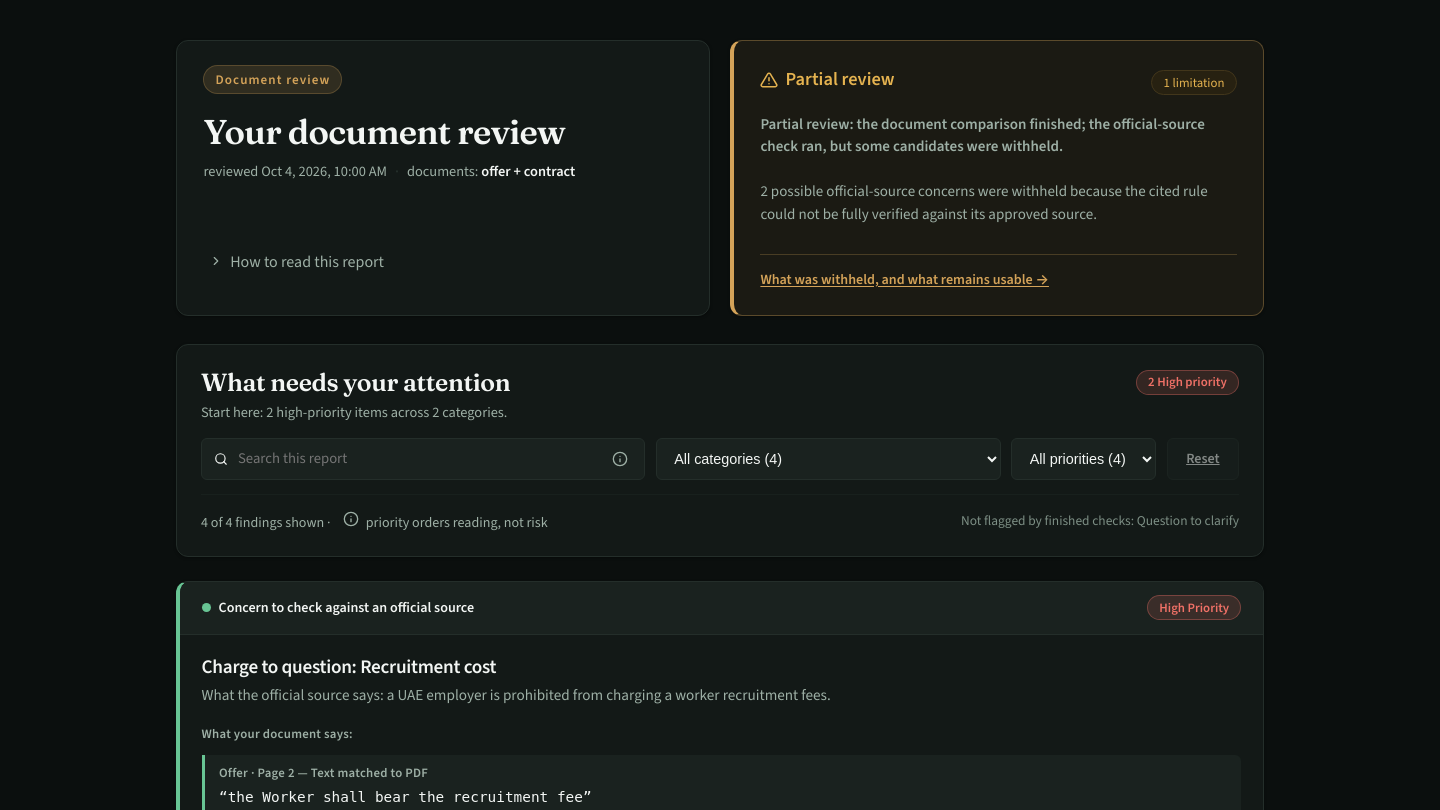
Test: search, filters, reset (plan §8.12) › search matches explanations and quotes; zero matches is a filtered view, never a clean result (R20)
The width and height of the screenshot is (1440, 810).
Type "probation" into the search field named "Search findings". click: {"x": 415, "y": 459}
box: [236,439,595,479]
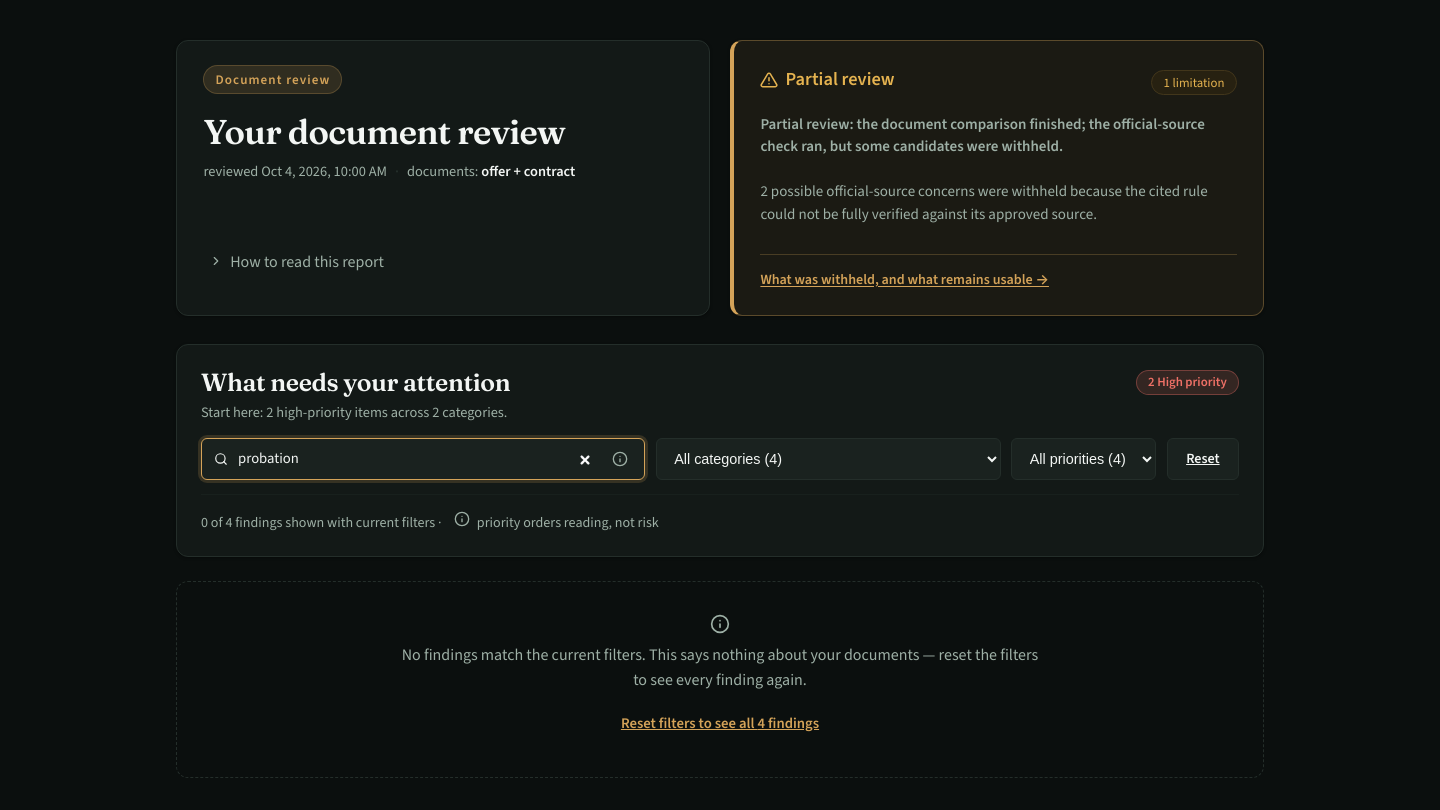
Expected: the text "No findings match the current filters" is shown, [402,644,1038,690]
Click the button "Reset filters to see all 4 findings". click: {"x": 720, "y": 723}
box: [618,701,822,745]
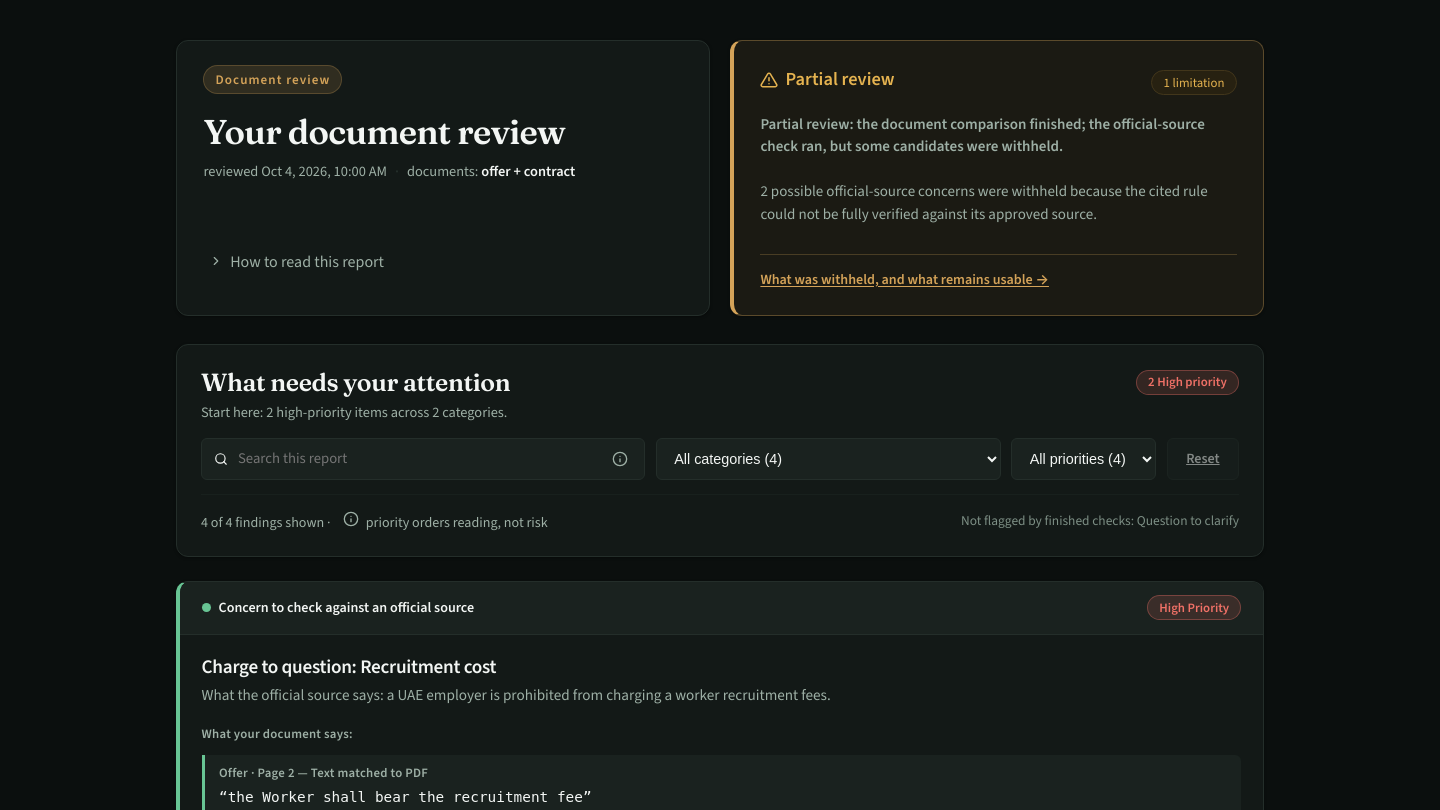
Expected: the text "4 of 4 findings shown · priority orders reading, not risk" is shown, [201,506,548,534]
Type "recruitment" into the search field named "Search findings". click: {"x": 415, "y": 459}
box: [236,439,595,479]
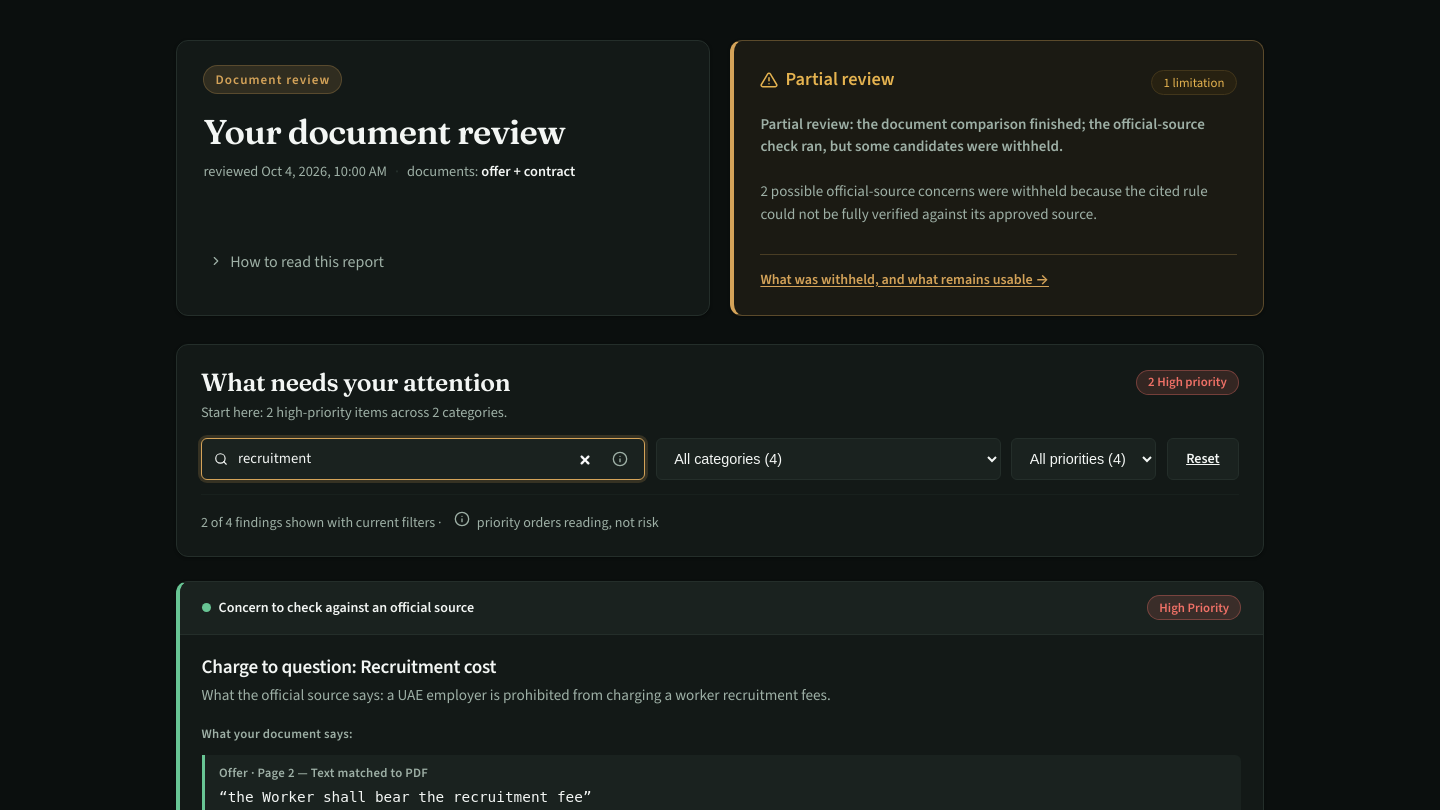
Expected: the text "2 of 4 findings shown with current filters · priority orders reading, not risk" is shown, [201,506,659,534]
